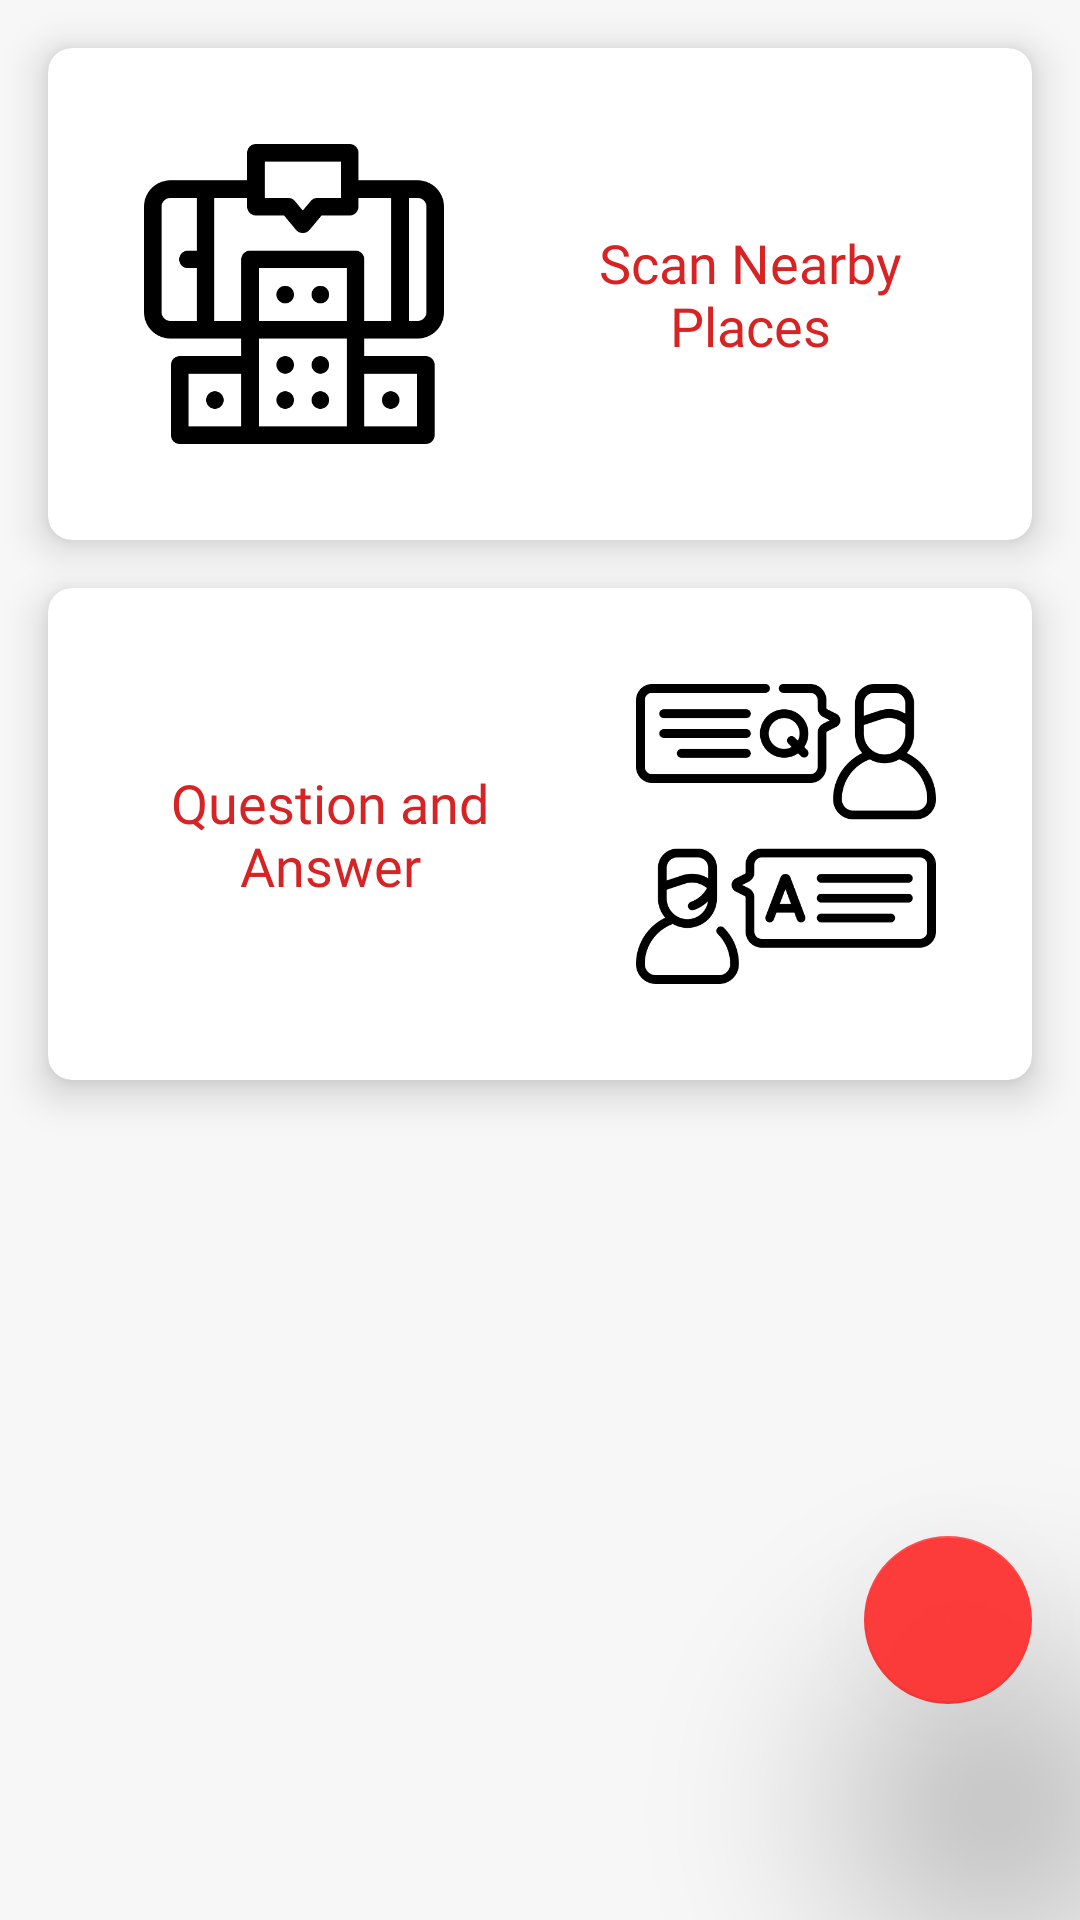

Named icons in this screenshot (1080 x 1920) and their bounding boxes, Rect(x1, y1, x2, y2):
augmented: Rect(144, 144, 444, 444)
